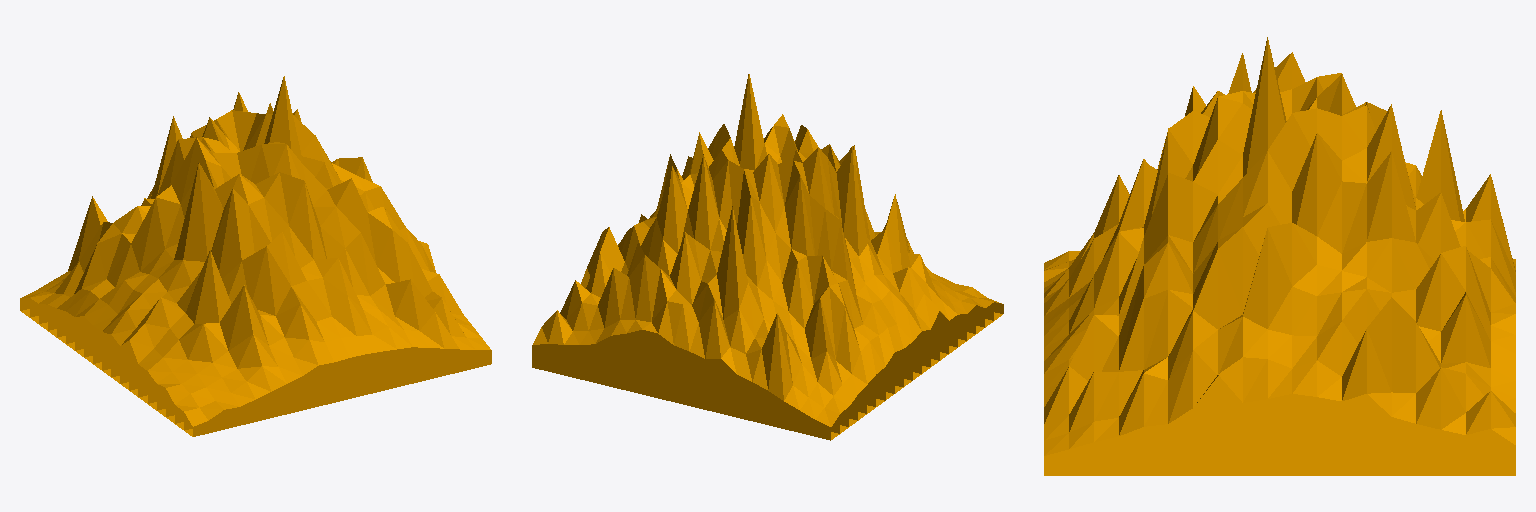
The robot description file, URDF, robot "mountain":
<?xml version="1.0"?>
<robot name="mountain">
  <link name="baseLink">
    <inertial>
      <origin xyz="0 0 0" rpy="0 0 0"/>
      <mass value="1"/>
      <inertia ixx="1" ixy="0" ixz="0" iyy="1" iyz="0" izz="1"/>
    </inertial>
    <visual>
      <origin xyz="0 0 0" rpy="0 0 0"/>
      <geometry>
        <mesh filename="hills.obj" scale="1 1 1"/>
      </geometry>
    </visual>
    <collision>
      <origin xyz="0 0 0" rpy="0 0 0"/>
      <geometry>
        <mesh filename="hills.obj" scale="1 1 1"/>
      </geometry>
    </collision>
  </link>
</robot>

--- Facts derived from the render (not from the file) ---
Views: 3 orthographic renders of the robot side by side, from view 1: azimuth 30°, elevation 25°; view 2: azimuth 150°, elevation 25°; view 3: azimuth 270°, elevation 25°.
Model mountain with 1 links and 0 joints (none), rooted at baseLink, posed all joints at 0.
Links seen in each view (by area): view 1: baseLink; view 2: baseLink; view 3: baseLink.
Link boxes in pixels (<box>): baseLink: <box>20,76,491,436</box>; baseLink: <box>532,74,1003,440</box>; baseLink: <box>1044,37,1515,475</box>.
Size in the robot's own frame: 9.5 by 9.5 by 7.93 metres.
Meshes: 1 distinct files referenced, 1 mesh visuals loaded (1 OBJ).
